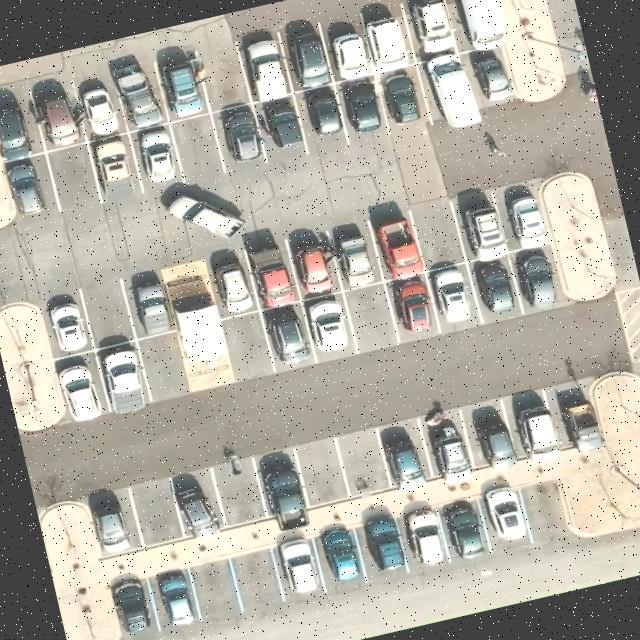space-empty: (192, 37, 252, 114), (209, 456, 269, 532), (76, 275, 136, 350), (333, 427, 394, 500), (44, 142, 102, 216), (125, 476, 183, 550), (170, 112, 226, 187), (410, 196, 466, 270), (228, 544, 286, 615), (218, 310, 275, 381), (344, 280, 398, 352), (135, 330, 190, 400), (516, 480, 574, 546), (188, 556, 242, 624), (297, 438, 348, 506)
space-occupied: (250, 446, 316, 532), (419, 50, 483, 131), (504, 386, 568, 466), (90, 338, 156, 413), (236, 24, 298, 103), (450, 186, 510, 264), (204, 242, 264, 320), (324, 215, 385, 291), (374, 416, 434, 493), (38, 283, 98, 360), (418, 406, 477, 484), (49, 353, 109, 428), (476, 480, 536, 554), (367, 205, 425, 281), (460, 398, 518, 474), (153, 49, 213, 122), (358, 1, 418, 74), (352, 509, 412, 582), (88, 132, 146, 207), (300, 290, 360, 362), (424, 260, 483, 333), (110, 60, 168, 134), (434, 493, 492, 567), (83, 483, 141, 557), (70, 72, 130, 142), (271, 532, 331, 602), (376, 62, 434, 134), (334, 74, 392, 146), (392, 503, 452, 572), (168, 468, 225, 540), (398, 0, 464, 62), (30, 80, 85, 154), (120, 270, 178, 340), (318, 14, 376, 84), (0, 152, 58, 221), (210, 104, 268, 173), (548, 378, 602, 452), (384, 272, 441, 341), (260, 302, 315, 372), (493, 180, 548, 250), (466, 256, 522, 324), (146, 566, 202, 634), (294, 82, 348, 152), (128, 124, 183, 192), (508, 246, 562, 314), (314, 527, 367, 595), (253, 94, 307, 160), (288, 234, 340, 302), (249, 241, 300, 310), (442, 0, 508, 53), (283, 21, 332, 92), (107, 574, 159, 640), (466, 46, 514, 114), (0, 88, 37, 163)
